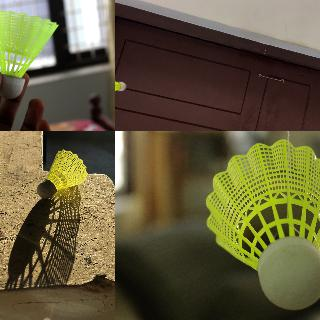shuttlecock: (205, 139, 319, 311), (0, 8, 58, 98), (37, 148, 87, 198), (115, 74, 126, 97)
